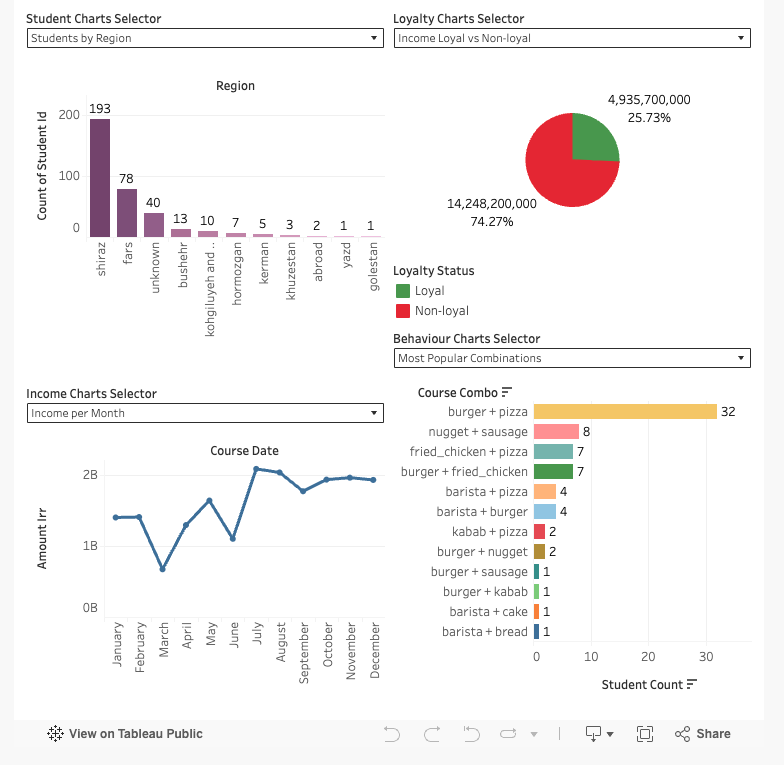

The page's visual inventory and layout, read from the dashboard file:
{"tool":"tableau","page":{"name":"NSP_Student_Analytics_Dashboard","canvas":[1000,1000],"units":"permille","ordinal":0},"visuals":[{"type":"parameter","param":"[Parameters].[Parameter 1]","box":[11.8,9.4,488.2,61.1]},{"type":"parameter","param":"[Parameters].[Parameter 3]","box":[500,9.4,488.2,61.1]},{"type":"worksheet","title":"Students per Month","mark":"Bar","rows":["student_id"],"cols":["course_date"],"box":[11.8,70.5,488.2,1.2]},{"type":"worksheet","title":"Student Loyalty Distribution","mark":"Bar","rows":["student_id"],"cols":["Calculation_1295770093761597444"],"box":[500,70.5,488.2,1.2]},{"type":"worksheet","title":"Students per Course","mark":"Automatic","rows":["course_type"],"cols":["student_id"],"box":[11.8,71.7,488.2,10.6]},{"type":"worksheet","title":"Income Loyal vs Non-loyal","mark":"Pie","box":[500,71.7,488.2,305]},{"type":"worksheet","title":"Students by Region","mark":"Automatic","rows":["student_id"],"cols":["Calculation_975873782699323395"],"box":[11.8,82.3,488.2,326.7]},{"type":"legend","title":"Income Loyal vs Non-loyal","param":"[federated.00z0pdi1mefw8q116mhfr0mf0rm9].[none:Calculation_1295770093762330629:n","box":[500,376.6,488.2,77.6]},{"type":"worksheet","title":"Students per Season","mark":"Pie","box":[11.8,408.9,488.2,35.2]},{"type":"legend","title":"Students per Season","param":"[federated.00z0pdi1mefw8q116mhfr0mf0rm9].[none:Calculation_975873782696701953:nk","box":[11.8,444.2,488.2,10.6]},{"type":"parameter","param":"[Parameters].[Parameter 4]","box":[500,454.2,488.2,62.3]},{"type":"parameter","param":"[Parameters].[Parameter 2]","box":[11.8,454.8,488.2,61.1]},{"type":"worksheet","title":"Income per Month","mark":"Automatic","rows":["amount_irr"],"cols":["course_date"],"box":[11.8,515.9,488.2,461.8]},{"type":"worksheet","title":"Classes by Weekday","mark":"Bar","rows":["student_id"],"cols":["Calculation_1431159557568741378"],"box":[500,524.4,488.2,1.2]},{"type":"worksheet","title":"Most Popular Combinations","mark":"Automatic","rows":["Course Combo"],"cols":["Student Count"],"box":[500,525.6,488.2,379.6]},{"type":"worksheet","title":"Income per Season","mark":"Automatic","rows":["amount_irr"],"cols":["Calculation_975873782696701953"],"box":[11.8,977.7,488.2,1.2]},{"type":"worksheet","title":"Income by Course Type","mark":"Automatic","rows":["course_type"],"cols":["amount_irr"],"box":[11.8,978.8,488.2,10.6]},{"type":"worksheet","title":"Income by Region","mark":"Automatic","rows":["amount_irr"],"cols":["Calculation_975873782699323395"],"box":[11.8,989.4,488.2,1.2]}]}

Visuals, with their boxes on the dashboard's canvas, which has no fixed pixel size, in thousandths of its width and height (x1, y1, x2, y2). These are canvas units, not pixel positions in the 784x765 screenshot, which may show the page scaled, cropped or inside an application window:
parameter: (12, 9, 500, 70)
parameter: (500, 9, 988, 70)
"Students per Month" worksheet (Bar marks): (12, 70, 500, 72)
"Student Loyalty Distribution" worksheet (Bar marks): (500, 70, 988, 72)
"Students per Course" worksheet: (12, 72, 500, 82)
"Income Loyal vs Non-loyal" worksheet (Pie marks): (500, 72, 988, 377)
"Students by Region" worksheet: (12, 82, 500, 409)
"Income Loyal vs Non-loyal" legend: (500, 377, 988, 454)
"Students per Season" worksheet (Pie marks): (12, 409, 500, 444)
"Students per Season" legend: (12, 444, 500, 455)
parameter: (500, 454, 988, 516)
parameter: (12, 455, 500, 516)
"Income per Month" worksheet: (12, 516, 500, 978)
"Classes by Weekday" worksheet (Bar marks): (500, 524, 988, 526)
"Most Popular Combinations" worksheet: (500, 526, 988, 905)
"Income per Season" worksheet: (12, 978, 500, 979)
"Income by Course Type" worksheet: (12, 979, 500, 989)
"Income by Region" worksheet: (12, 989, 500, 991)
